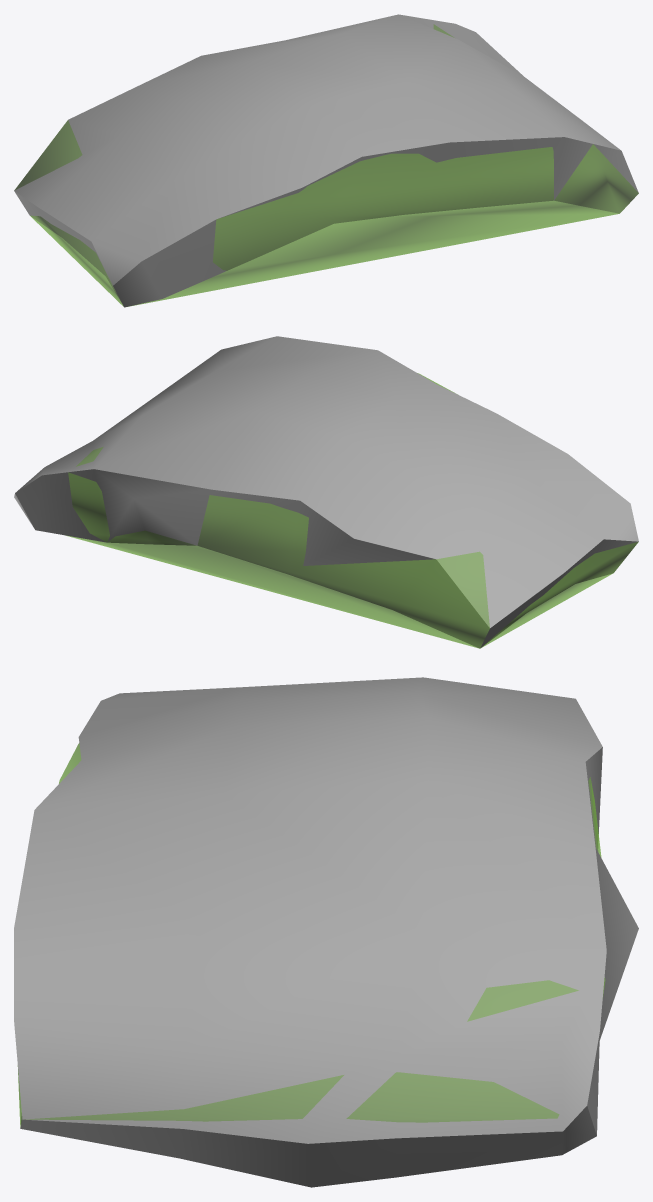
The model's file is pg_Steak_01.fbx.
3 views of the same model, one above another, from view 1: azimuth 30°, elevation 25°; view 2: azimuth 150°, elevation 25°; view 3: azimuth 270°, elevation 25° (orthographic). The views are drawn at different scales.
Parts seen in each view (by area): view 1: pg_Steak_01_a_LOD0, pg_Steak_01_a_col; view 2: pg_Steak_01_a_LOD0, pg_Steak_01_a_col; view 3: pg_Steak_01_a_LOD0, pg_Steak_01_a_col.
Boxes of the visible parts, x1=… form: pg_Steak_01_a_LOD0: x1=14, y1=14, x2=638, y2=307; pg_Steak_01_a_col: x1=14, y1=24, x2=638, y2=306; pg_Steak_01_a_LOD0: x1=14, y1=336, x2=638, y2=648; pg_Steak_01_a_col: x1=65, y1=373, x2=638, y2=648; pg_Steak_01_a_LOD0: x1=14, y1=677, x2=638, y2=1187; pg_Steak_01_a_col: x1=17, y1=743, x2=605, y2=1127.
Size of what is drawn, in the model's own units: 19.42 by 5.46 by 12.14.
